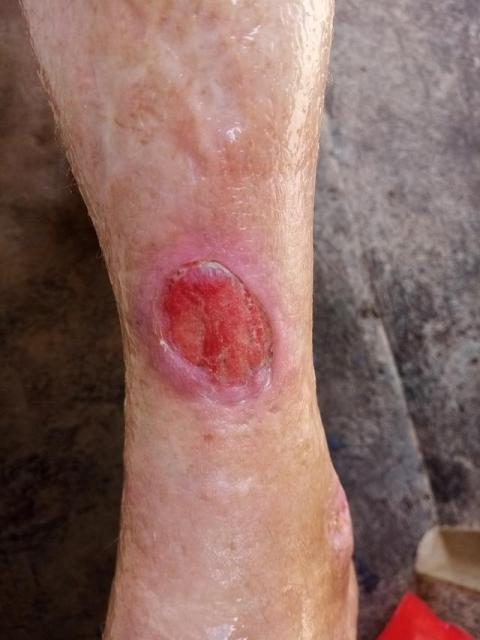wound: (147, 254, 276, 393)
